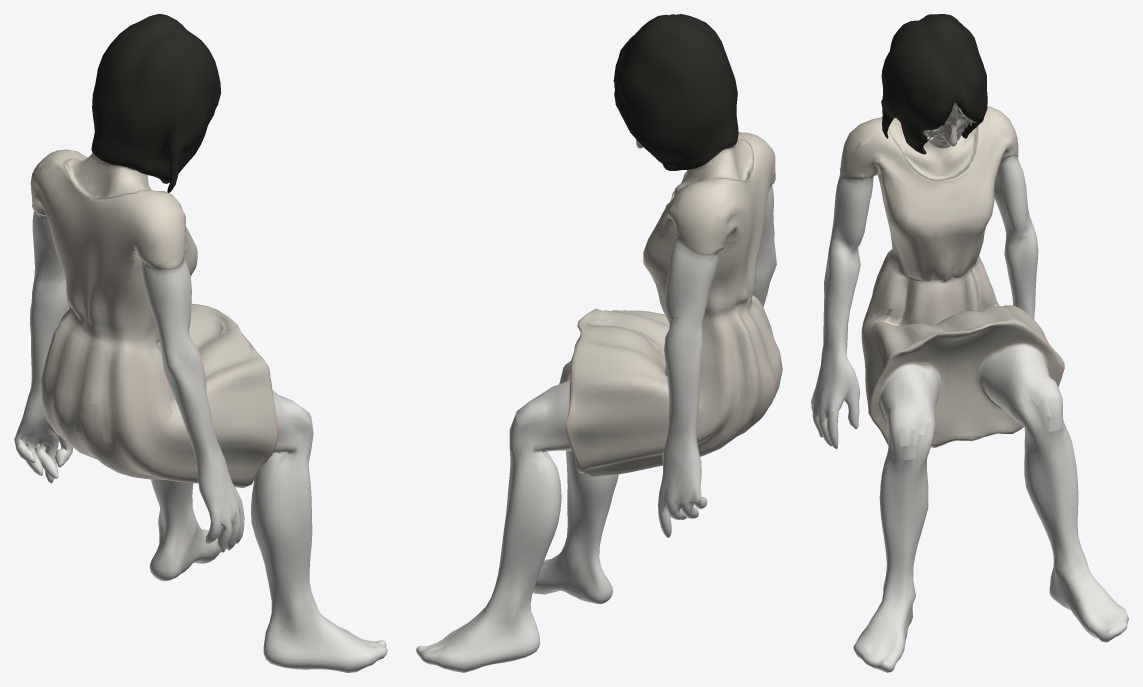
Rendered from sitting.glb.
3 renders of one model, left to right at view 1: azimuth 30°, elevation 25°; view 2: azimuth 150°, elevation 25°; view 3: azimuth 270°, elevation 25°, orthographic. The views are drawn at different scales.
Visible parts, largest first — view 1: tripo_node_3b2f1974-9a16-4b81-9459-b725fe5577d4.004; view 2: tripo_node_3b2f1974-9a16-4b81-9459-b725fe5577d4.004; view 3: tripo_node_3b2f1974-9a16-4b81-9459-b725fe5577d4.004.
Part boxes in pixels (left/top/right/bottom): tripo_node_3b2f1974-9a16-4b81-9459-b725fe5577d4.004: left=14, top=14, right=387, bottom=672; tripo_node_3b2f1974-9a16-4b81-9459-b725fe5577d4.004: left=416, top=14, right=782, bottom=672; tripo_node_3b2f1974-9a16-4b81-9459-b725fe5577d4.004: left=811, top=14, right=1128, bottom=672.
Size of the model in its own units: 0.6969 by 1.47 by 0.7296.
Materials: 1 (1 with a texture image).
